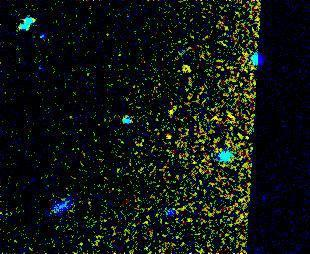star: (171, 53, 201, 83)
